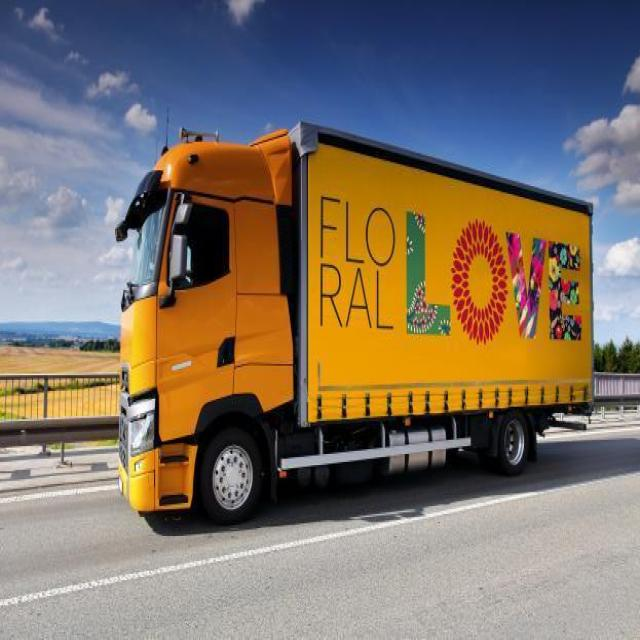truck: (115, 119, 590, 529)
